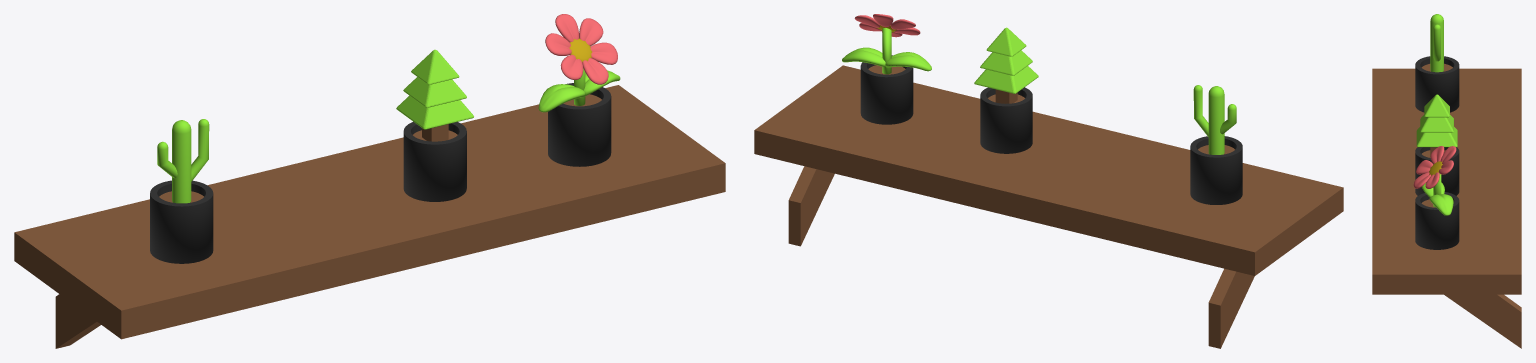
The model's file is Rack2.fbx.
The picture shows the model from 3 angles, left to right: view 1: azimuth 30°, elevation 25°; view 2: azimuth 150°, elevation 25°; view 3: azimuth 270°, elevation 25°; orthographic projection. The views are drawn at different scales.
Visible parts, largest first — view 1: Rack2; view 2: Rack2; view 3: Rack2.
Part boxes in pixels (left/top/right/bottom): Rack2: left=14, top=14, right=725, bottom=348; Rack2: left=754, top=14, right=1343, bottom=348; Rack2: left=1372, top=14, right=1521, bottom=348.
Bounding box in the file's own units: 123 × 400 × 168.
